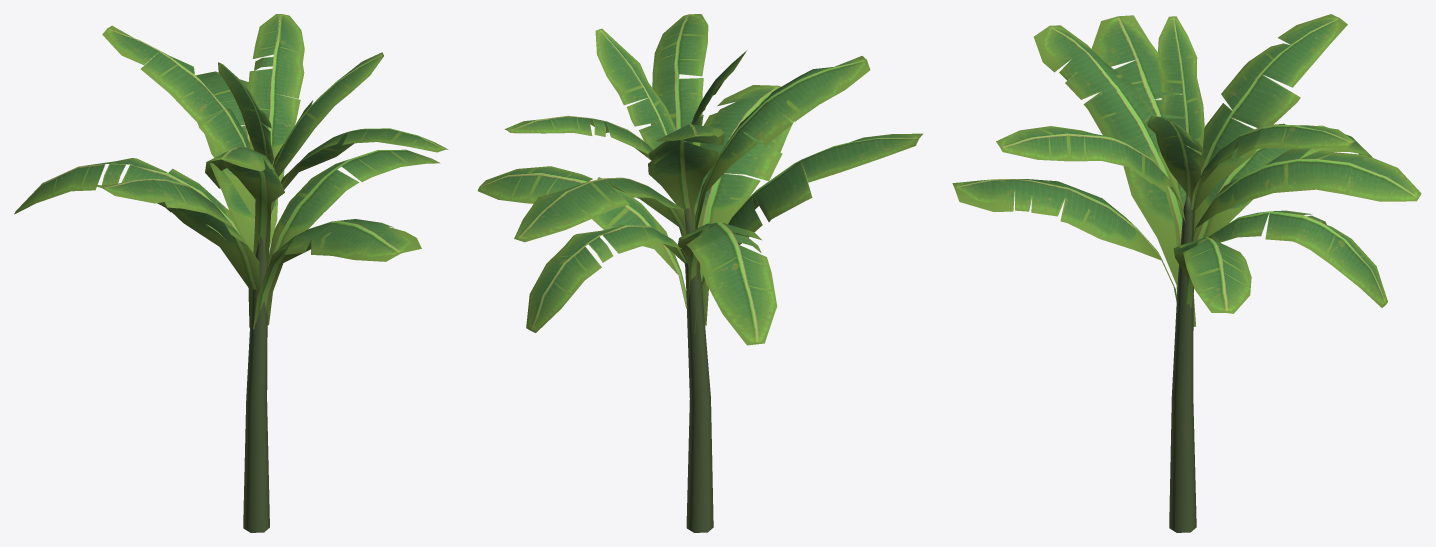
The model's file is P_BananaTree03.obj.
3 renders of one model, left to right at view 1: azimuth 30°, elevation 25°; view 2: azimuth 150°, elevation 25°; view 3: azimuth 270°, elevation 25°, orthographic. The views are drawn at different scales.
Bounding box in the file's own units: 4.46 × 5.26 × 4.56.
